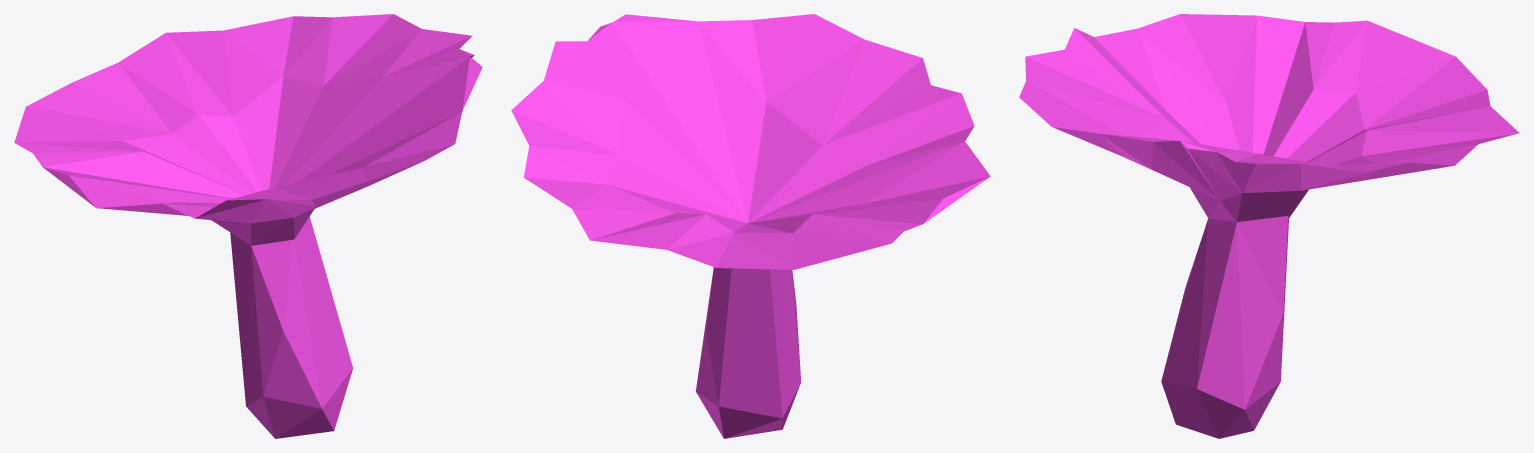
File: SM_Mushroom_Trumpet_Medium_A_Fantasy.fbx
3 views of the same model, side by side, from view 1: azimuth 30°, elevation 25°; view 2: azimuth 150°, elevation 25°; view 3: azimuth 270°, elevation 25° (orthographic). The views are drawn at different scales.
Parts seen in each view (by area): view 1: SM_Mushroom_Trumpet_Medium_A_Fantasy; view 2: SM_Mushroom_Trumpet_Medium_A_Fantasy; view 3: SM_Mushroom_Trumpet_Medium_A_Fantasy.
Part boxes in pixels (x1,y1,x2,y2): SM_Mushroom_Trumpet_Medium_A_Fantasy: (14,14,482,438); SM_Mushroom_Trumpet_Medium_A_Fantasy: (511,14,990,438); SM_Mushroom_Trumpet_Medium_A_Fantasy: (1019,14,1519,438).
Bounding box in the file's own units: 0.8099 × 0.6765 × 0.8363.
